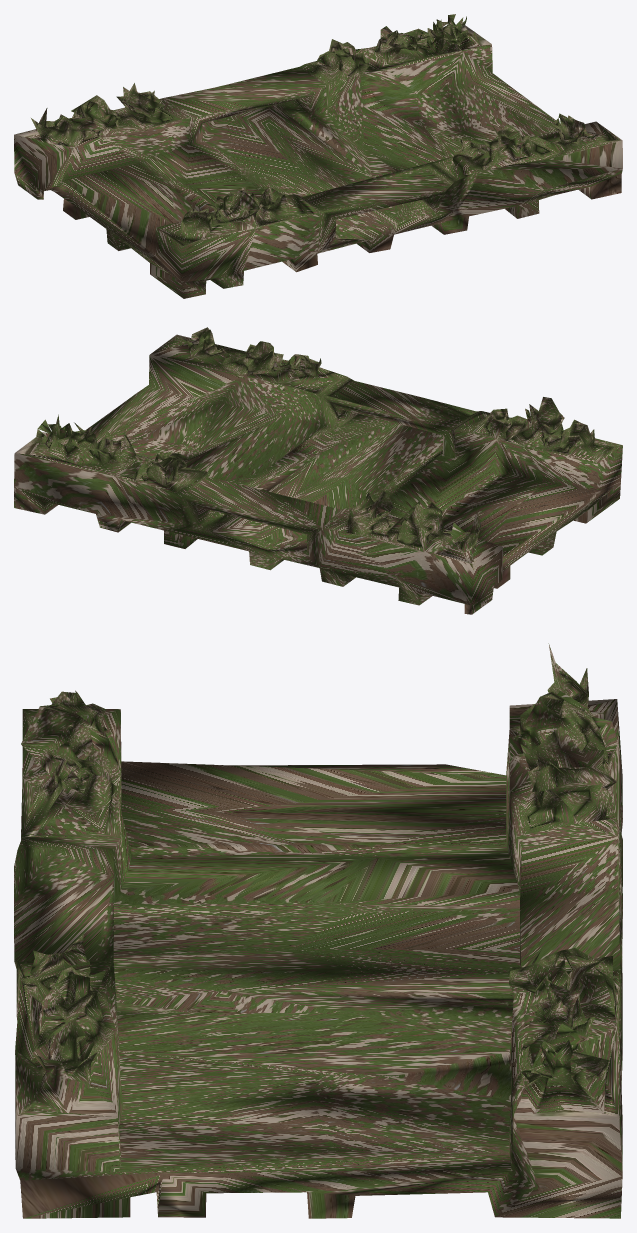
File: deckbench_lod1.glb
3 views of the same model, one above another, from view 1: azimuth 30°, elevation 25°; view 2: azimuth 150°, elevation 25°; view 3: azimuth 270°, elevation 25° (orthographic). The views are drawn at different scales.
Size of the model in its own units: 1.89 by 0.3634 by 1.16.
Materials: 1 (1 with a texture image).
